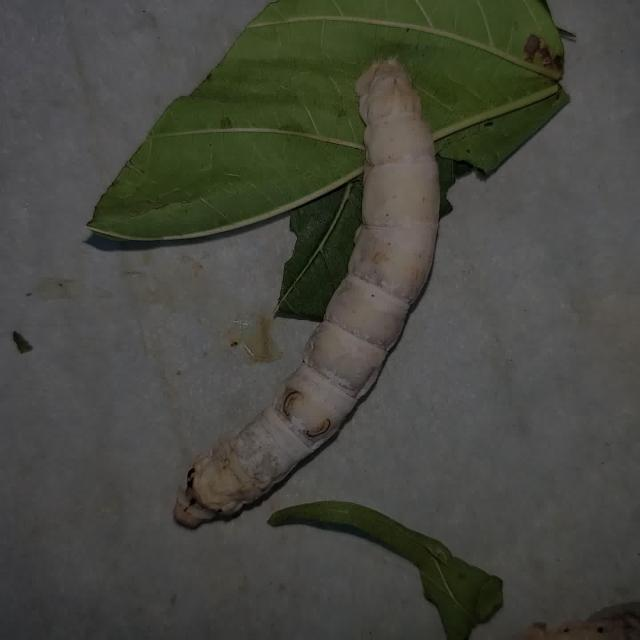Grasserie: (159, 34, 479, 551)
